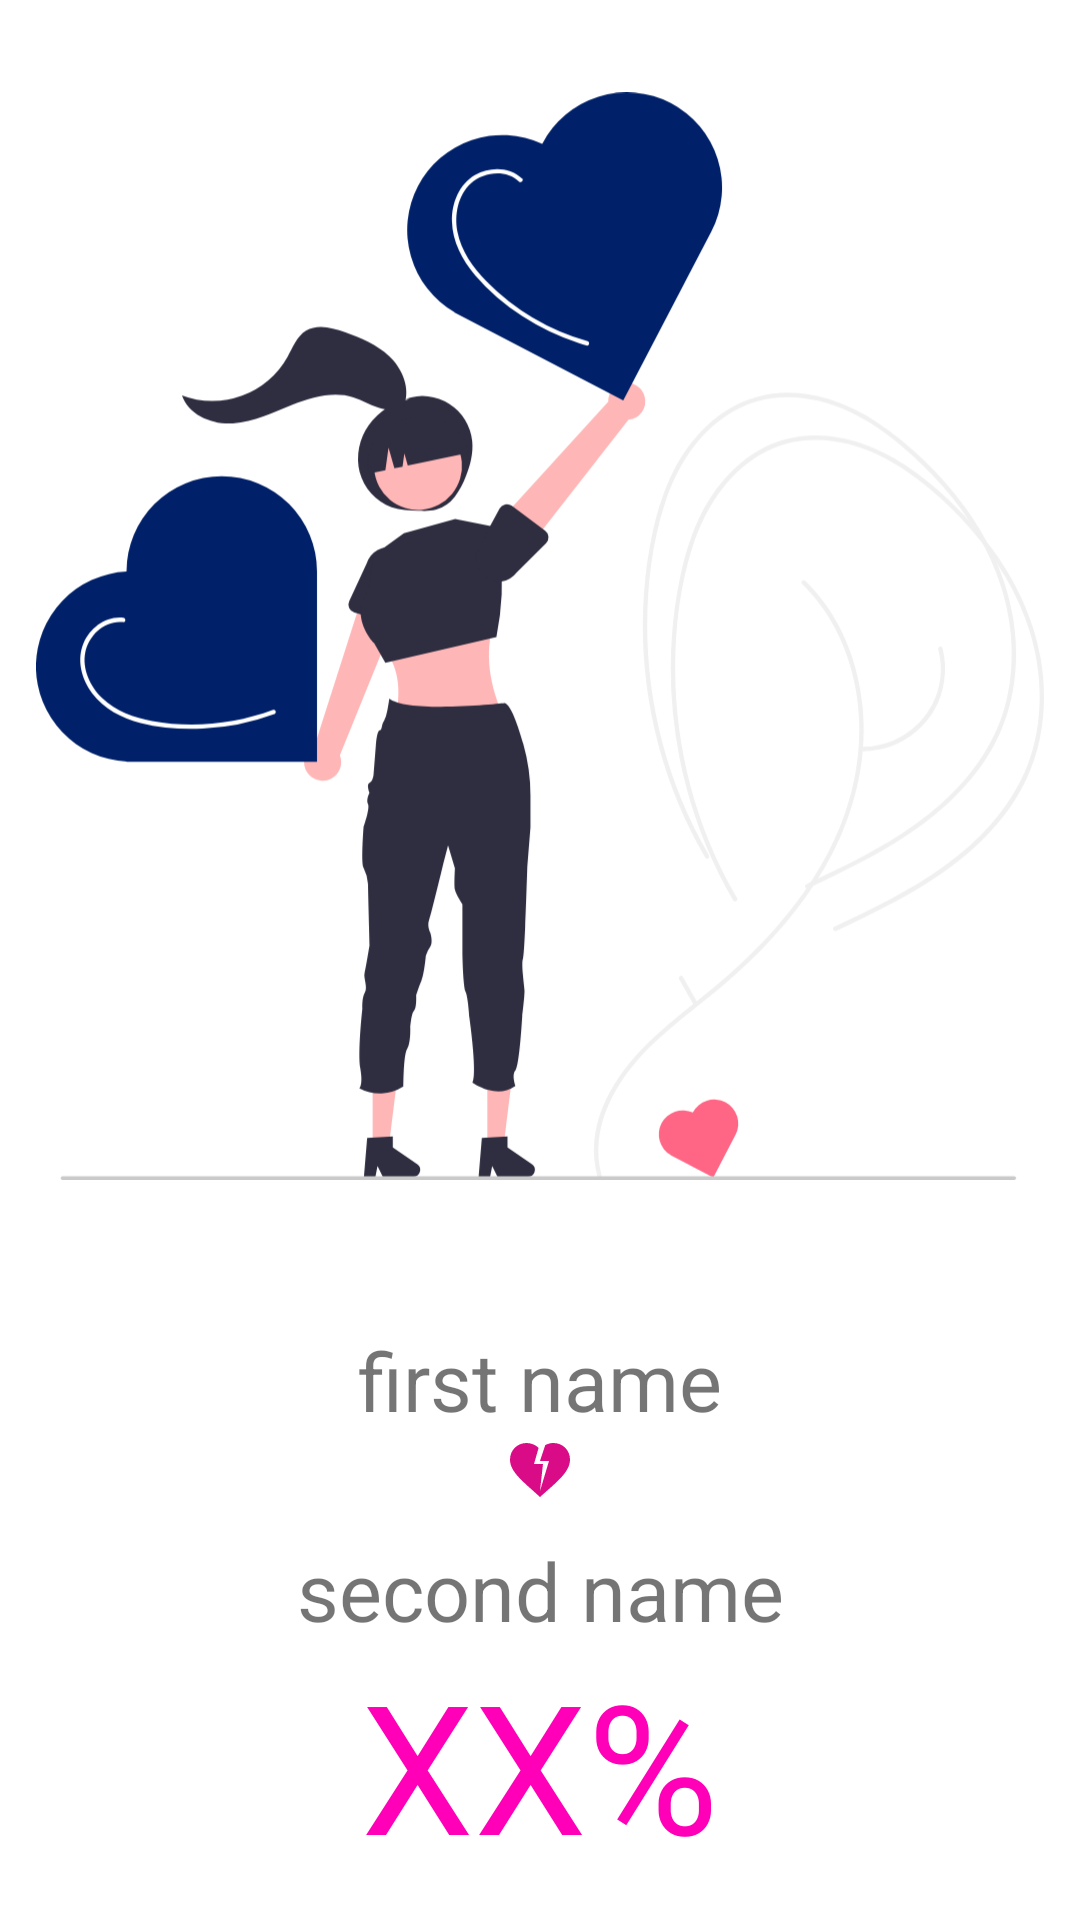

Where icons sit on this 1080 × 1920 app screen, as (x1, y1, x2, y2):
heart broken: (510, 1443, 570, 1497)
